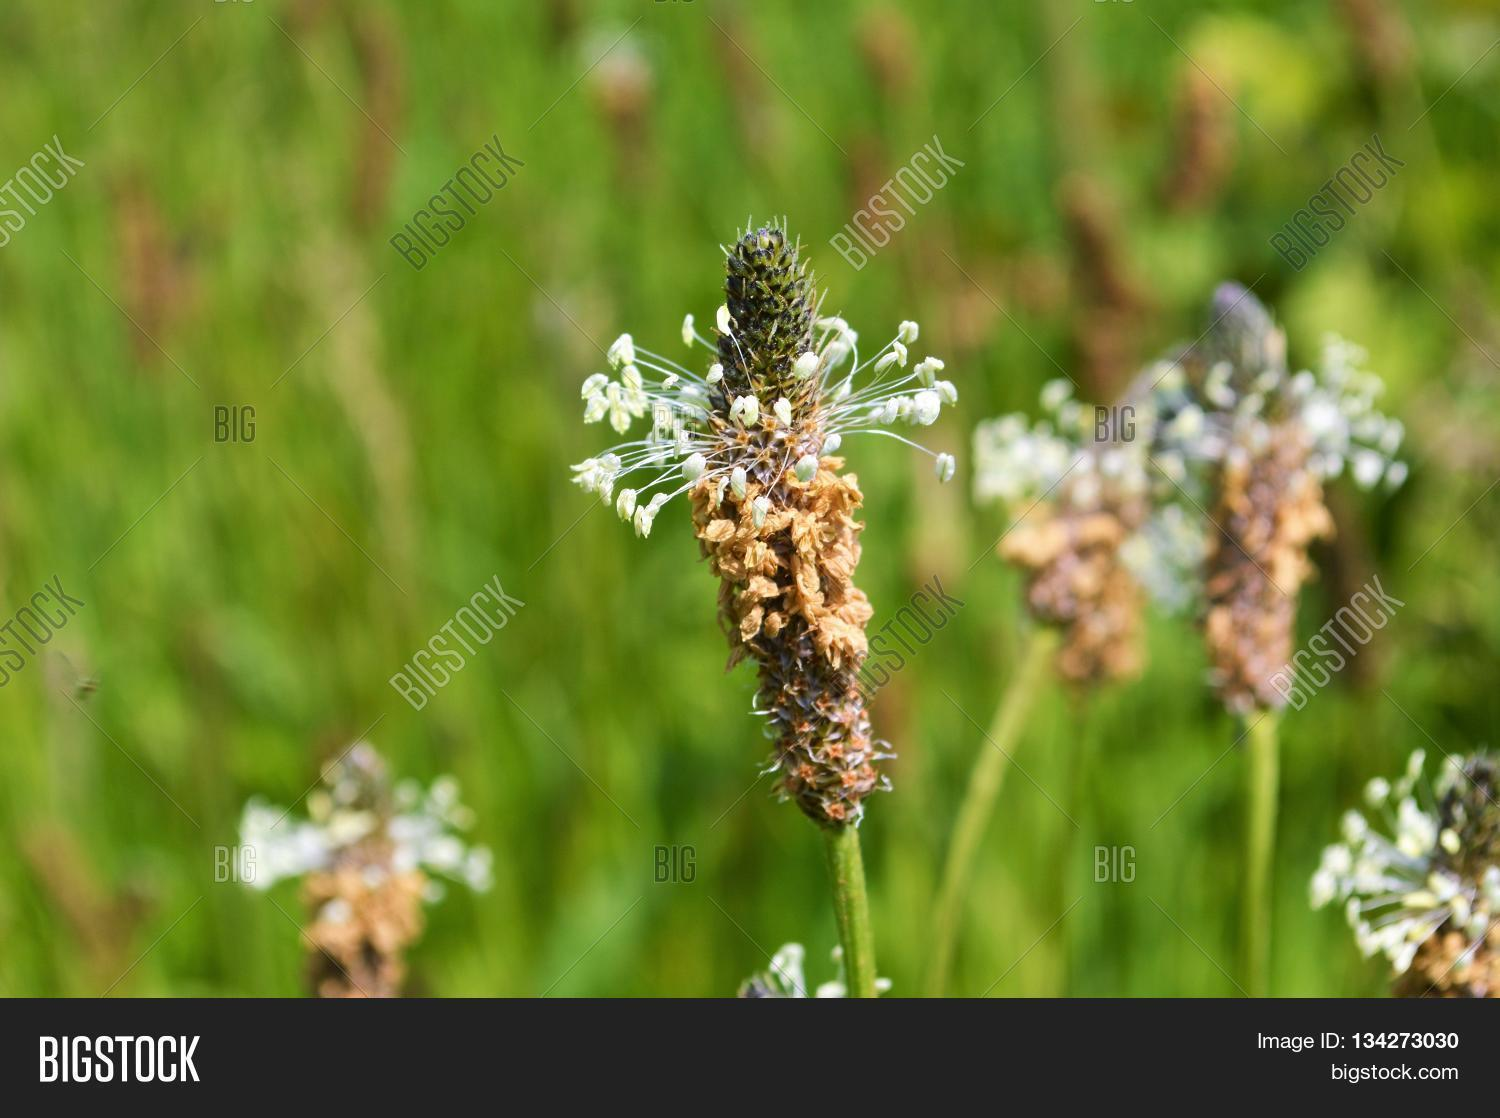buckhorn plantain: (608, 198, 946, 939)
